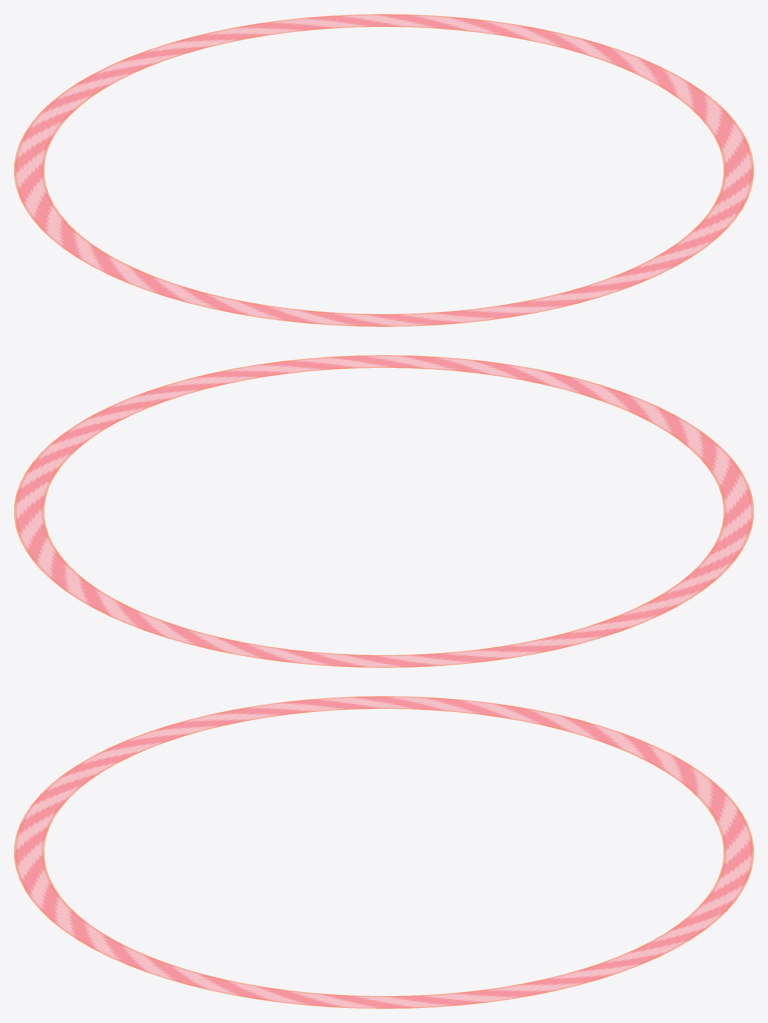
The model's file is fx_mring5_warn.glb.
3 renders of one model, top to bottom at view 1: azimuth 30°, elevation 25°; view 2: azimuth 150°, elevation 25°; view 3: azimuth 270°, elevation 25°, orthographic.
Parts seen in each view (by area): view 1: fx_warn; view 2: fx_warn; view 3: fx_warn.
Boxes of the visible parts, x1,y1,x2,y2 form: fx_warn: [14, 14, 753, 326]; fx_warn: [14, 355, 753, 667]; fx_warn: [14, 696, 753, 1008].
Size of the model in its own units: 48.4 by 0 by 48.37.
Materials: 1 (1 with a texture image).
